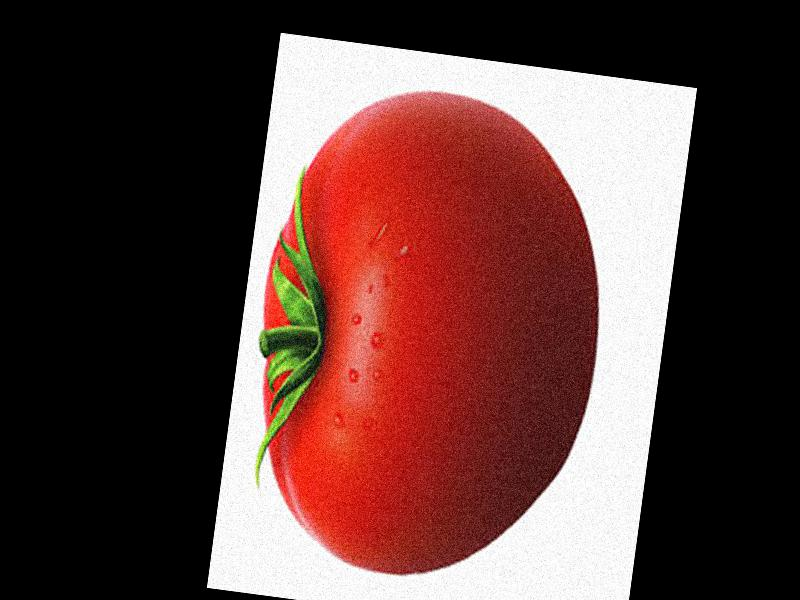Tomato: (230, 130, 620, 596)
